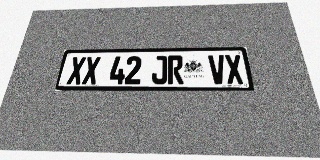2: (125, 56, 142, 84)
4: (109, 56, 127, 84)
J: (151, 56, 167, 84)
R: (168, 55, 184, 84)
V: (208, 55, 227, 84)
X: (224, 55, 244, 84), (66, 57, 86, 84), (82, 56, 101, 84)
